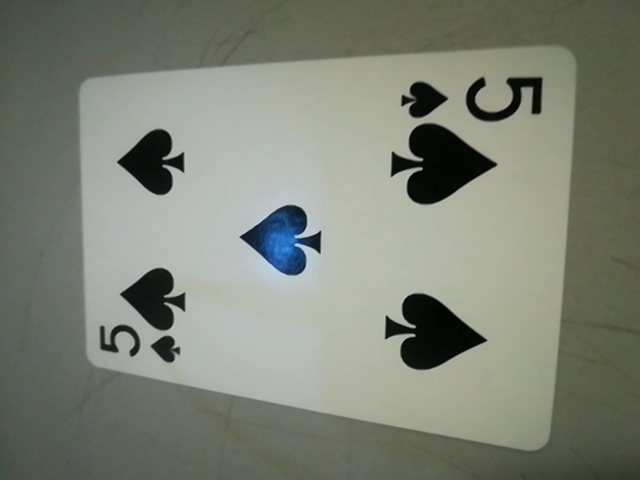ht 5: (393, 68, 559, 134)
